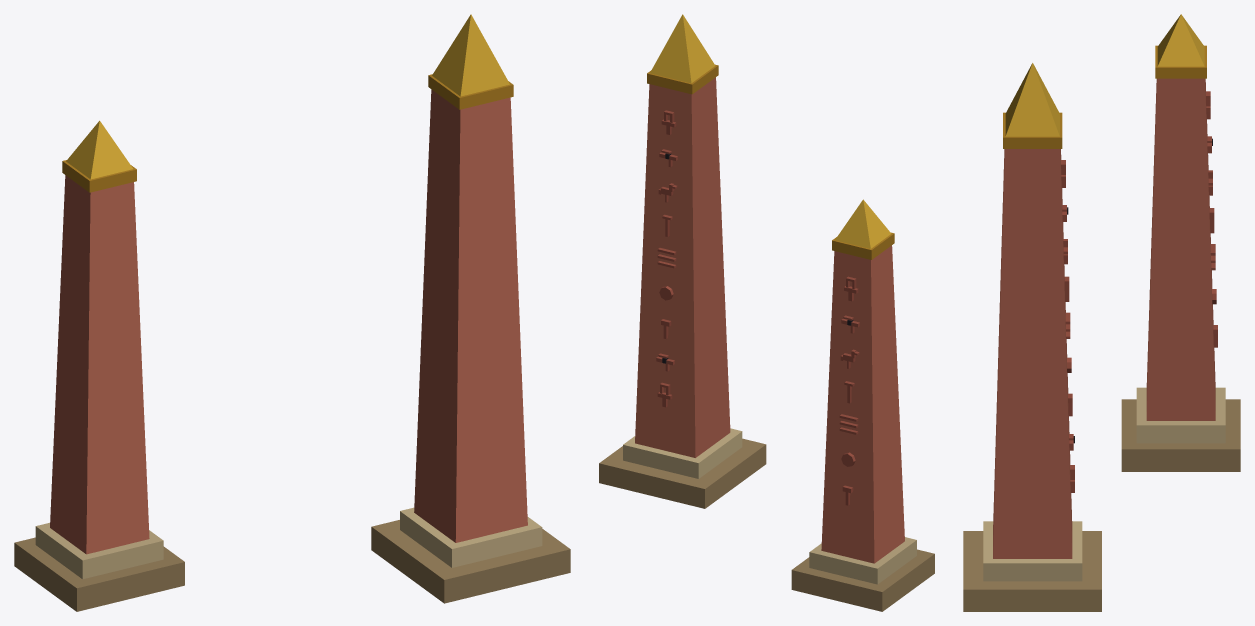
Rendered from Decor_PharaohPyramid_Obelisks.fbx.
3 renders of one model, left to right at view 1: azimuth 30°, elevation 25°; view 2: azimuth 150°, elevation 25°; view 3: azimuth 270°, elevation 25°, orthographic. The views are drawn at different scales.
Parts seen in each view (by area): view 1: Obelisks_Body; view 2: Obelisks_Body; view 3: Obelisks_Body.
Boxes of the visible parts, x1,y1,x2,y2 form: Obelisks_Body: [14, 14, 570, 611]; Obelisks_Body: [599, 14, 934, 611]; Obelisks_Body: [963, 14, 1240, 611].
Size of the model in its own units: 18.2 by 23.2 by 11.2.
